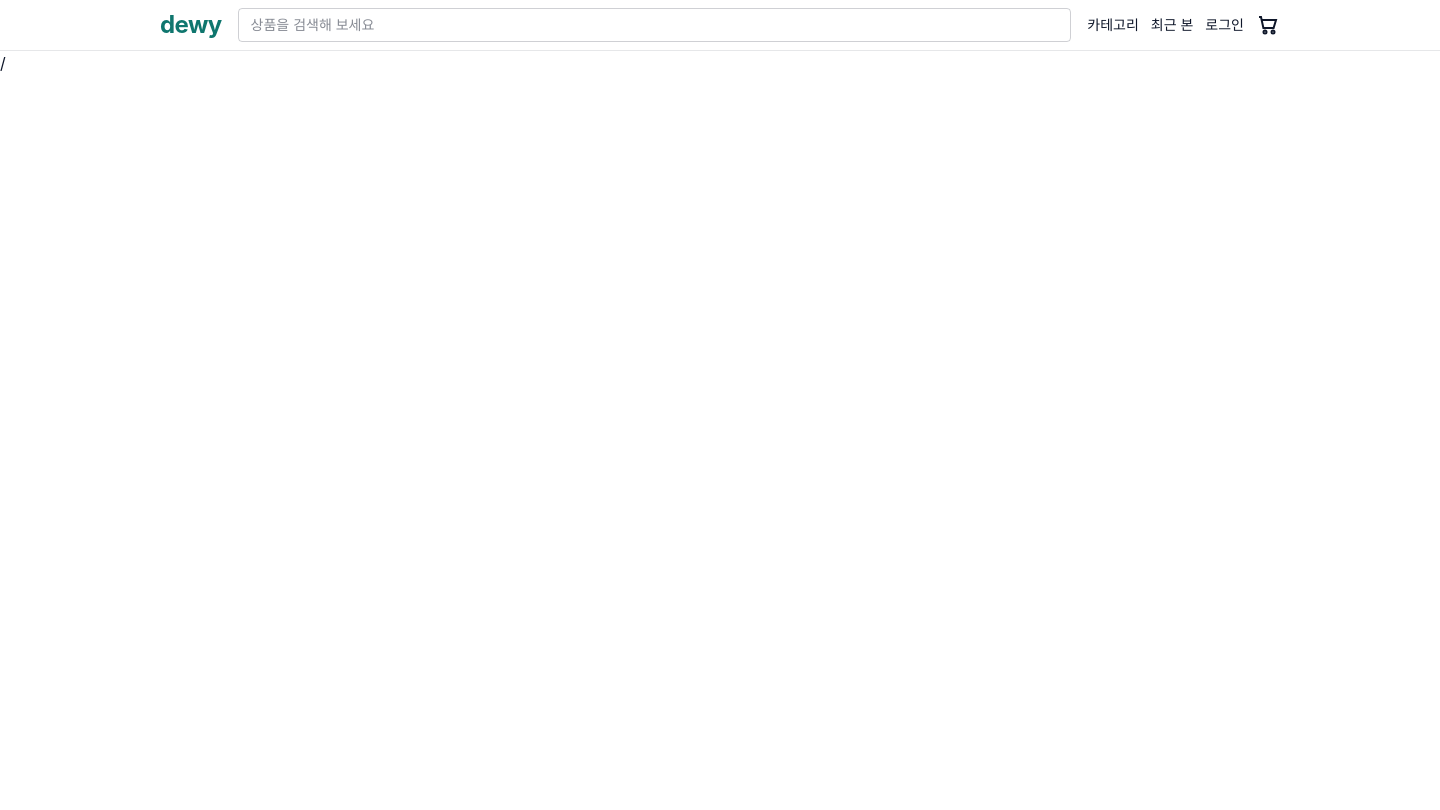
Test case: 카테고리를 고르면 목록으로 이동하고 닫힌다
Click the button "카테고리" at (1113, 25), box 1087,15 -> 1139,35
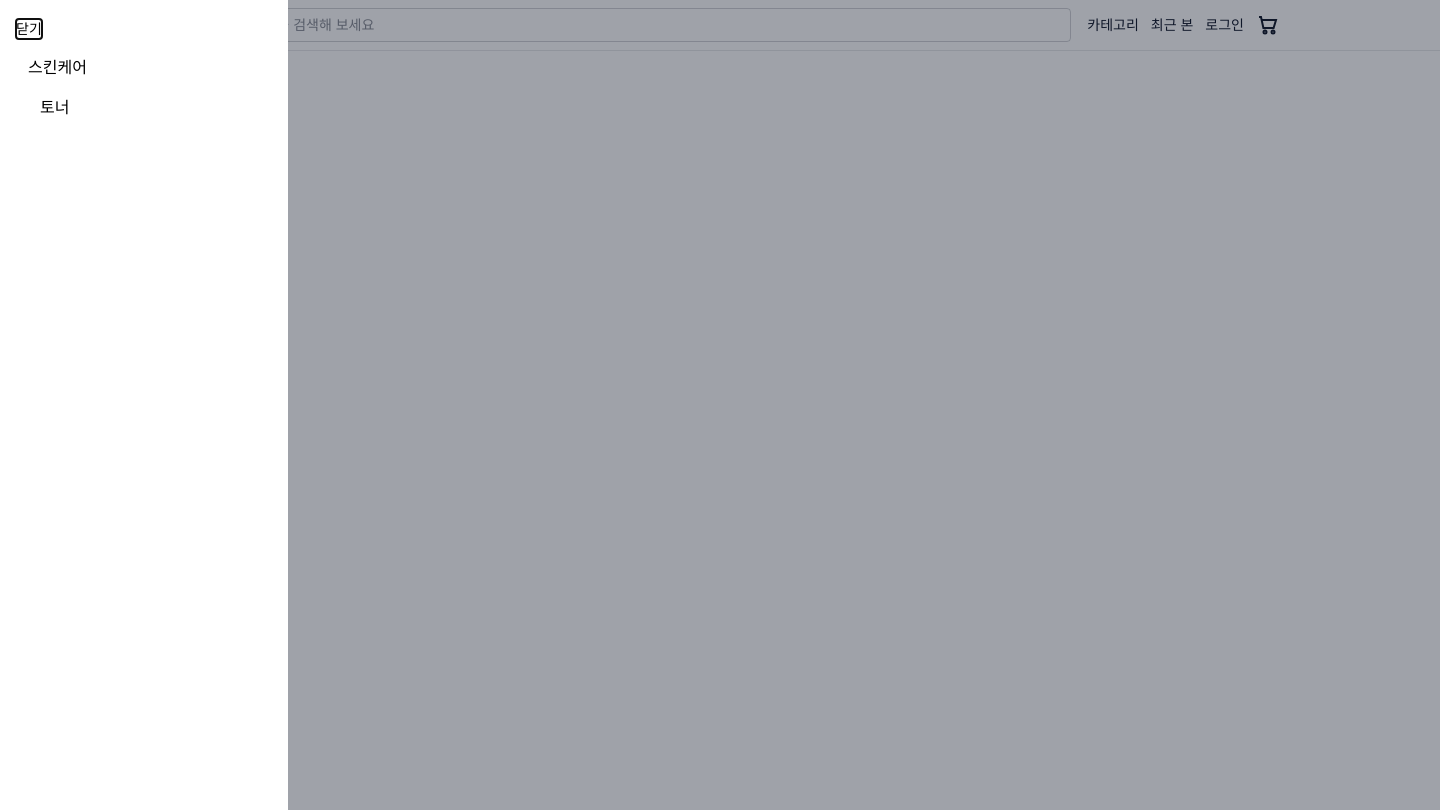
Click the button "토너" at (55, 107), box 40,87 -> 70,127
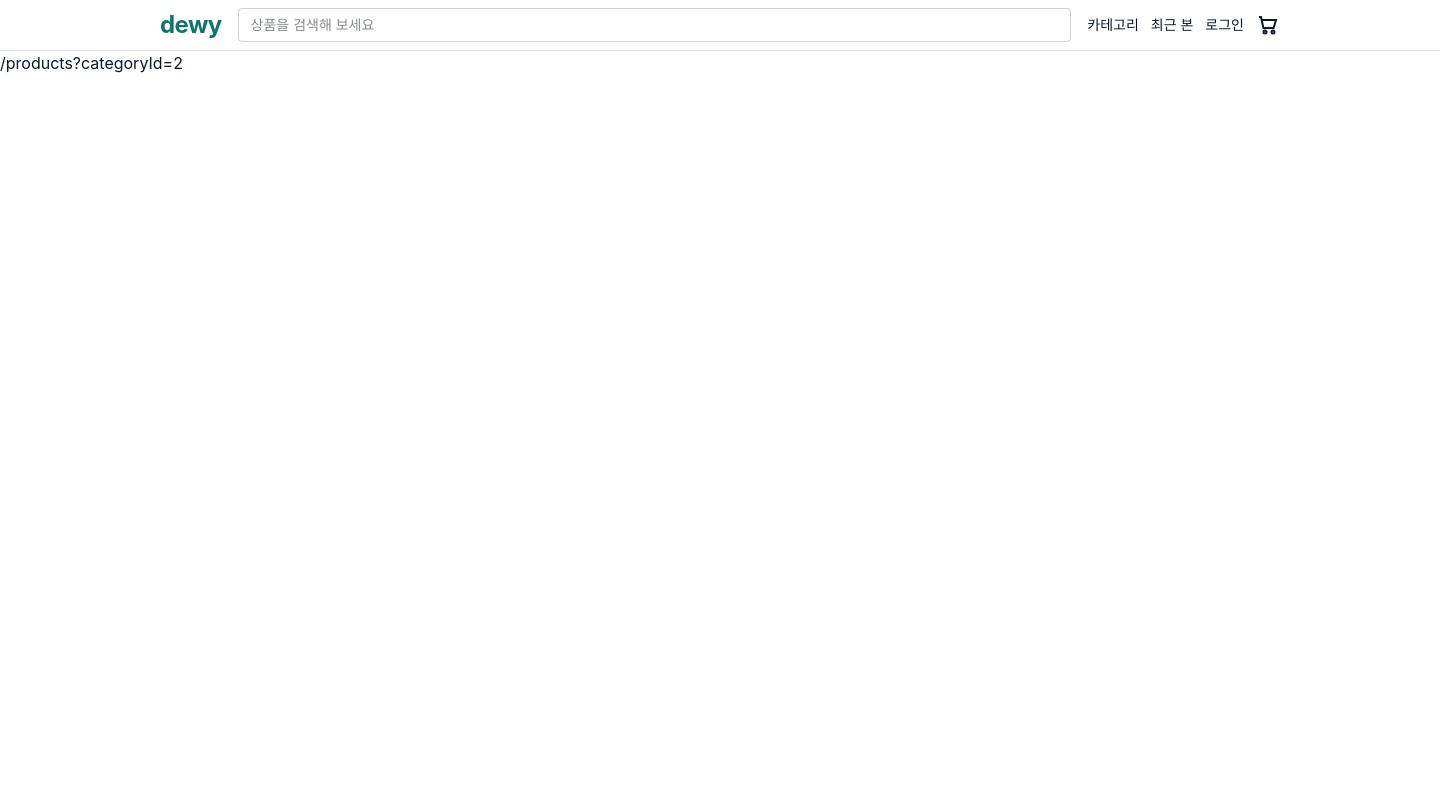
Expected: the text with test id "loc" reads "/products?categoryId=2", 0,53 -> 183,73
Expected: the dialog is gone
